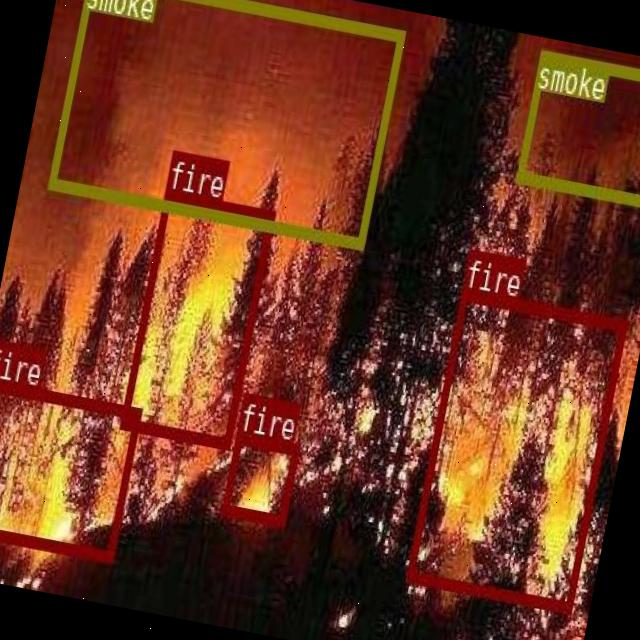fire: (406, 288, 628, 612), (118, 187, 274, 448), (0, 377, 142, 561), (220, 431, 299, 526)
smoke: (47, 0, 404, 248), (516, 48, 640, 205)
